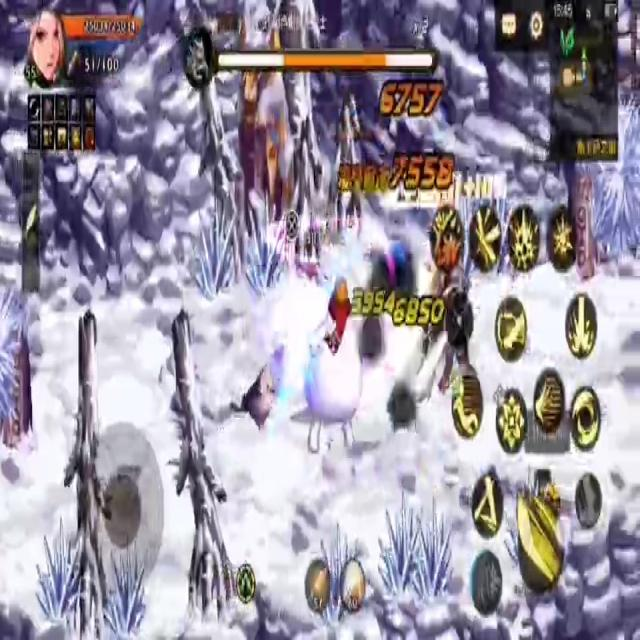player: (307, 271, 361, 458)
